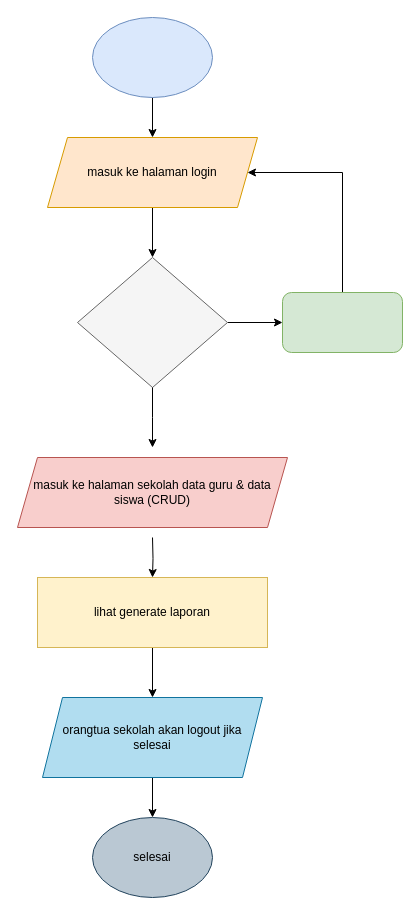
The diagram is 420 pixels wide and 915 high, and some of its shapes have lost their labels. The shapes that lost their labels are listed below. From the top down, each one's box as (x1, y1, x2, y2) in pixels, then its label:
(92, 16, 212, 98): mulai
(76, 256, 228, 388): username&&password ==1
(282, 292, 402, 352): kembali ke form login
